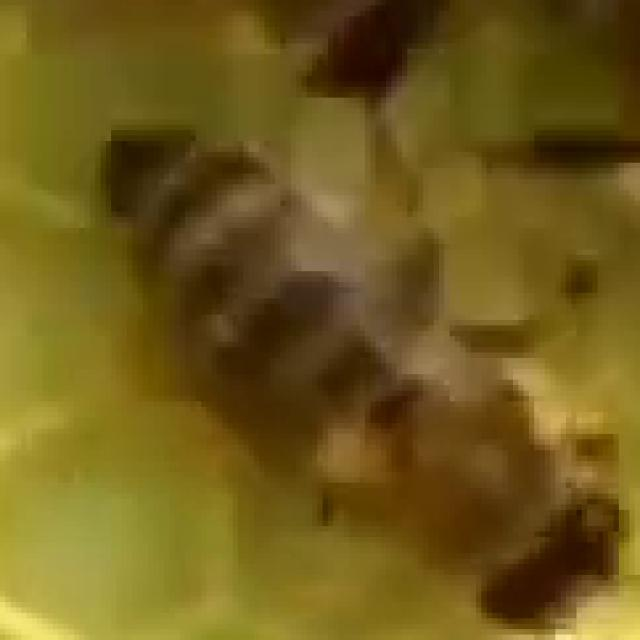honeybee: (107, 136, 623, 630)
